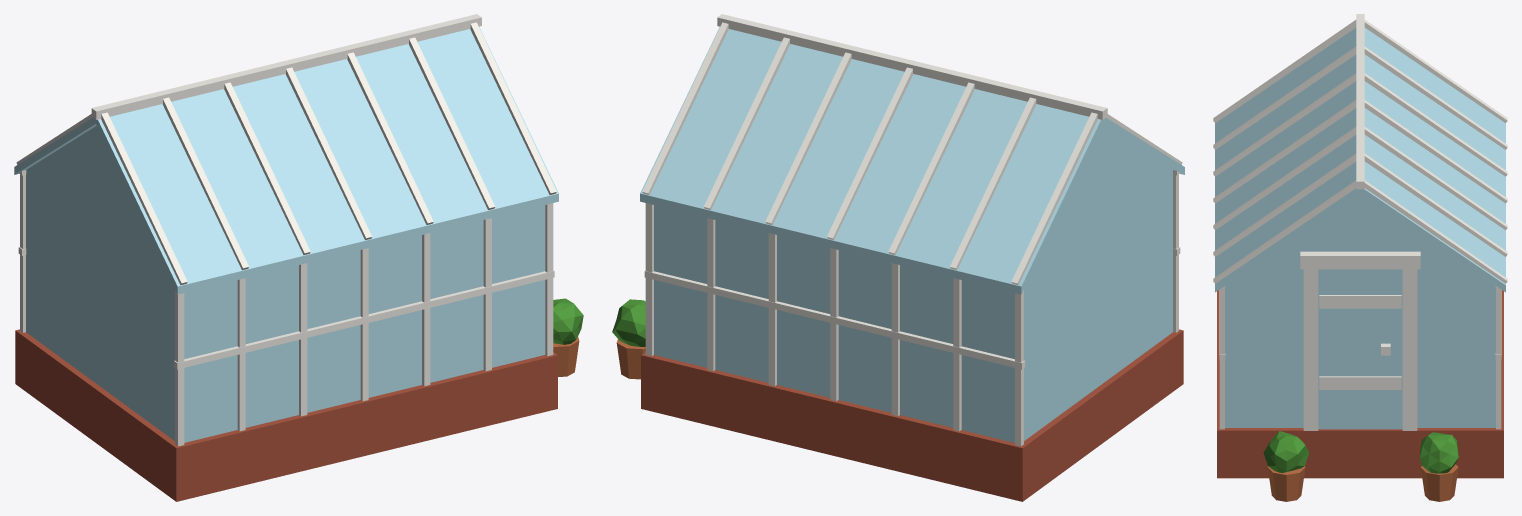
File: greenhouse-pixor.glb
3 renders of one model, left to right at view 1: azimuth 30°, elevation 25°; view 2: azimuth 150°, elevation 25°; view 3: azimuth 270°, elevation 25°, orthographic. The views are drawn at different scales.
Parts seen in each view (by area): view 1: Greenhouse glass, Greenhouse roof glass, Greenhouse base, Greenhouse frame, Greenhouse plants, Greenhouse pots; view 2: Greenhouse glass, Greenhouse roof glass, Greenhouse base, Greenhouse frame, Greenhouse plants, Greenhouse pots; view 3: Greenhouse roof glass, Greenhouse glass, Greenhouse frame, Greenhouse base, Greenhouse door, Greenhouse door frame, Greenhouse plants, Greenhouse pots.
Part boxes in pixels (left/top/right/bottom): Greenhouse glass: left=26, top=125, right=545, bottom=442; Greenhouse roof glass: left=14, top=27, right=558, bottom=294; Greenhouse base: left=15, top=329, right=557, bottom=501; Greenhouse frame: left=16, top=14, right=556, bottom=446; Greenhouse plants: left=553, top=298, right=583, bottom=344; Greenhouse pots: left=553, top=337, right=579, bottom=376; Greenhouse glass: left=654, top=126, right=1172, bottom=442; Greenhouse roof glass: left=640, top=27, right=1184, bottom=294; Greenhouse base: left=641, top=329, right=1183, bottom=501; Greenhouse frame: left=642, top=14, right=1182, bottom=446; Greenhouse plants: left=612, top=299, right=645, bottom=346; Greenhouse pots: left=616, top=339, right=645, bottom=379; Greenhouse roof glass: left=1215, top=28, right=1505, bottom=292; Greenhouse glass: left=1225, top=194, right=1495, bottom=427; Greenhouse frame: left=1213, top=14, right=1507, bottom=429; Greenhouse base: left=1217, top=290, right=1503, bottom=478; Greenhouse door: left=1318, top=269, right=1402, bottom=429; Greenhouse door frame: left=1300, top=251, right=1420, bottom=430; Greenhouse plants: left=1263, top=431, right=1458, bottom=473; Greenhouse pots: left=1267, top=464, right=1458, bottom=501.
Size of the model in its own units: 4.33 by 3.11 by 2.79.
